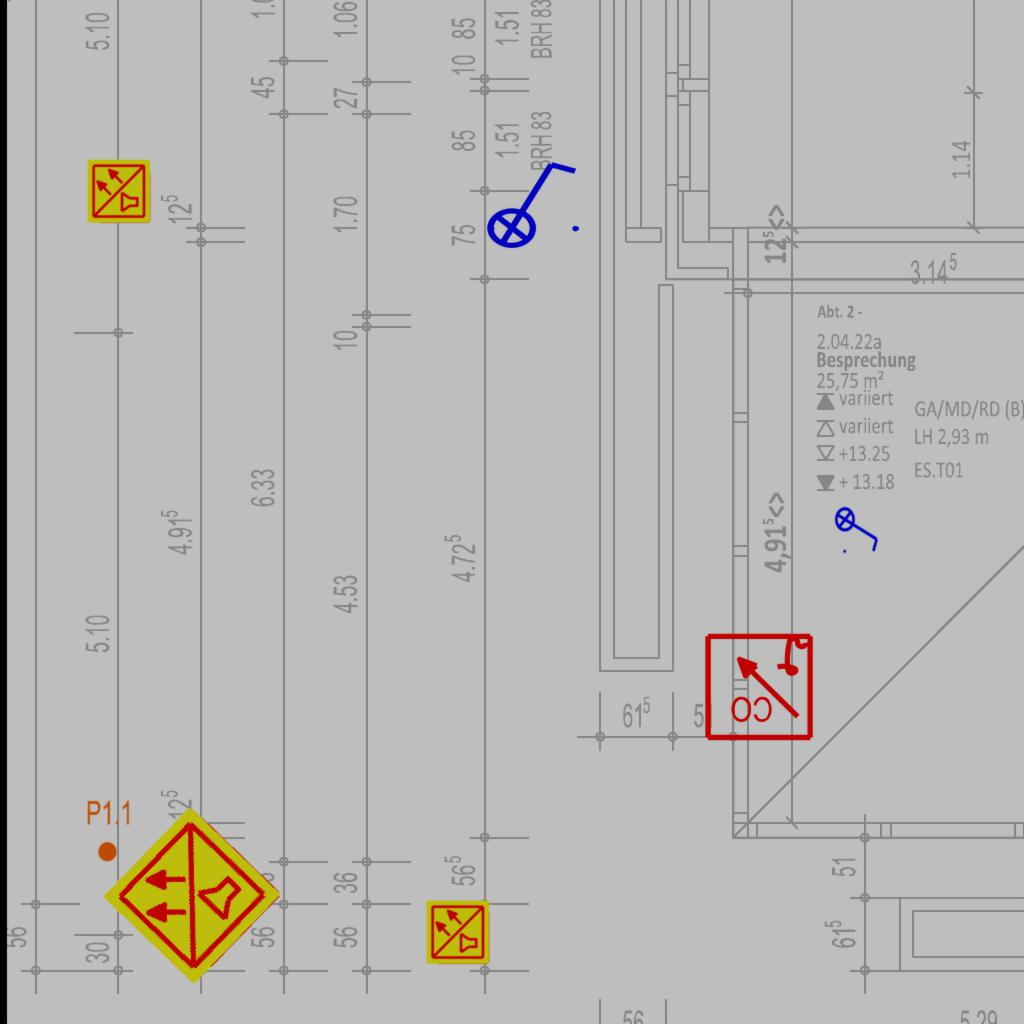Ausschalter_beleuchtet: (473, 154, 585, 250), (834, 500, 882, 556)
Downlight_LED_Einbauleuchten_Flur: (86, 799, 132, 863)
OKW_Multisensormelder_(Kombination_optischer_Rauch-Kahlenmonoxid_Waerme-Melder): (98, 801, 286, 989), (425, 899, 491, 965), (86, 158, 152, 224)
ROA_Rauchmelder_optisch_mit_Signalgeber_(Sockelsirene): (702, 629, 815, 742)
